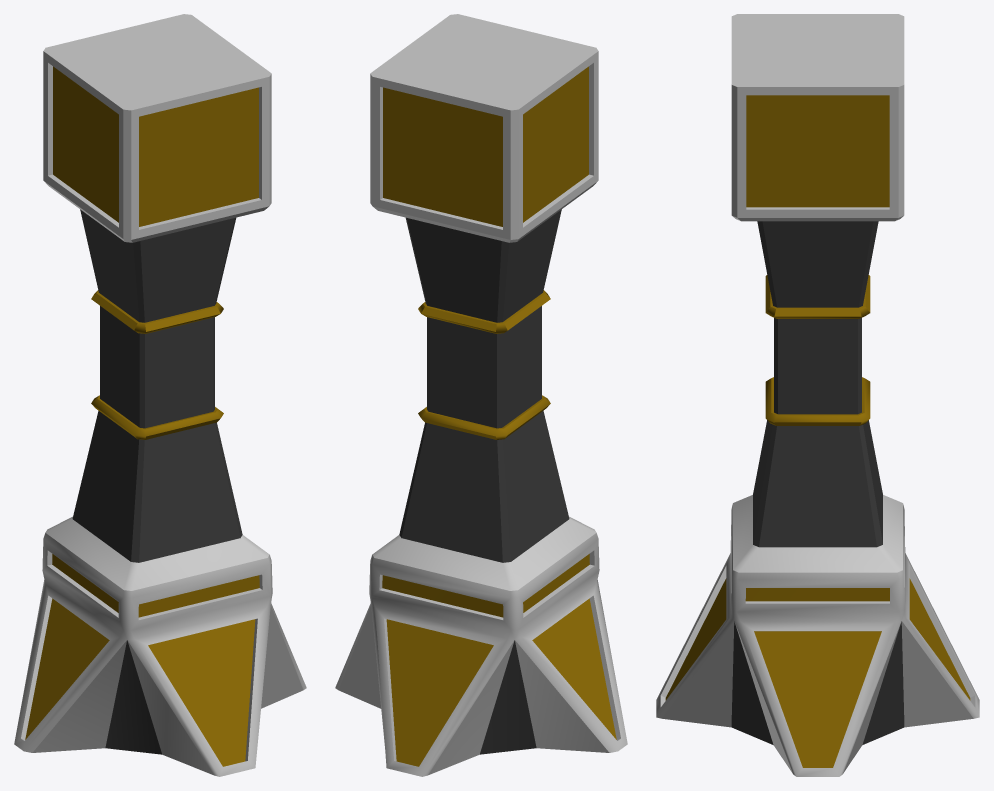
The model's file is pillier1.fbx.
3 renders of one model, left to right at view 1: azimuth 30°, elevation 25°; view 2: azimuth 150°, elevation 25°; view 3: azimuth 270°, elevation 25°, orthographic.
Parts seen in each view (by area): view 1: pillier_1; view 2: pillier_1; view 3: pillier_1.
Boxes of the visible parts, bbox=[...] form: pillier_1: bbox=[14, 14, 306, 776]; pillier_1: bbox=[335, 14, 627, 776]; pillier_1: bbox=[656, 14, 979, 776].
Bounding box in the file's own units: 44.14 × 44.14 × 99.17.
